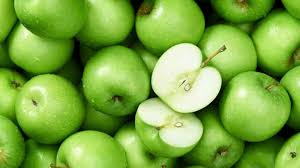apple: (154, 41, 236, 114), (85, 46, 154, 114)
